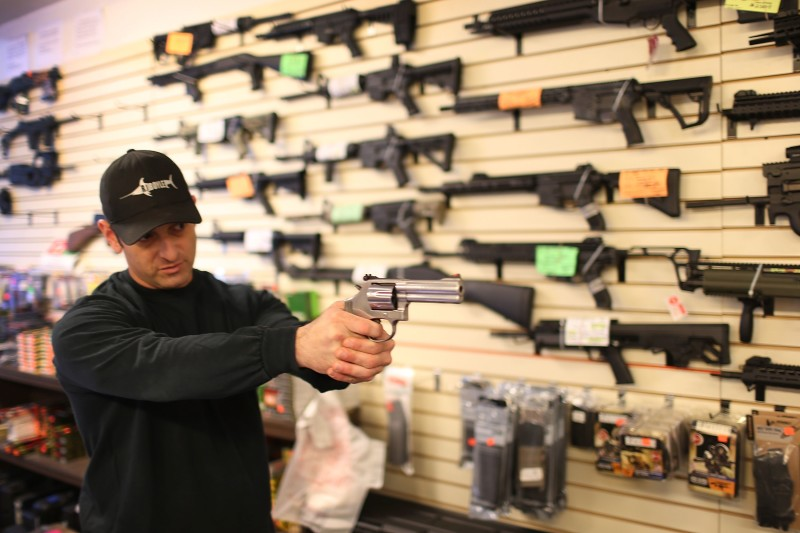Arma Real: (434, 71, 717, 144), (422, 233, 707, 304), (419, 167, 696, 225), (491, 312, 735, 373), (265, 120, 463, 190), (276, 56, 466, 116), (243, 1, 433, 58), (334, 270, 465, 348), (185, 168, 310, 222), (144, 111, 279, 159), (1, 111, 89, 151)
